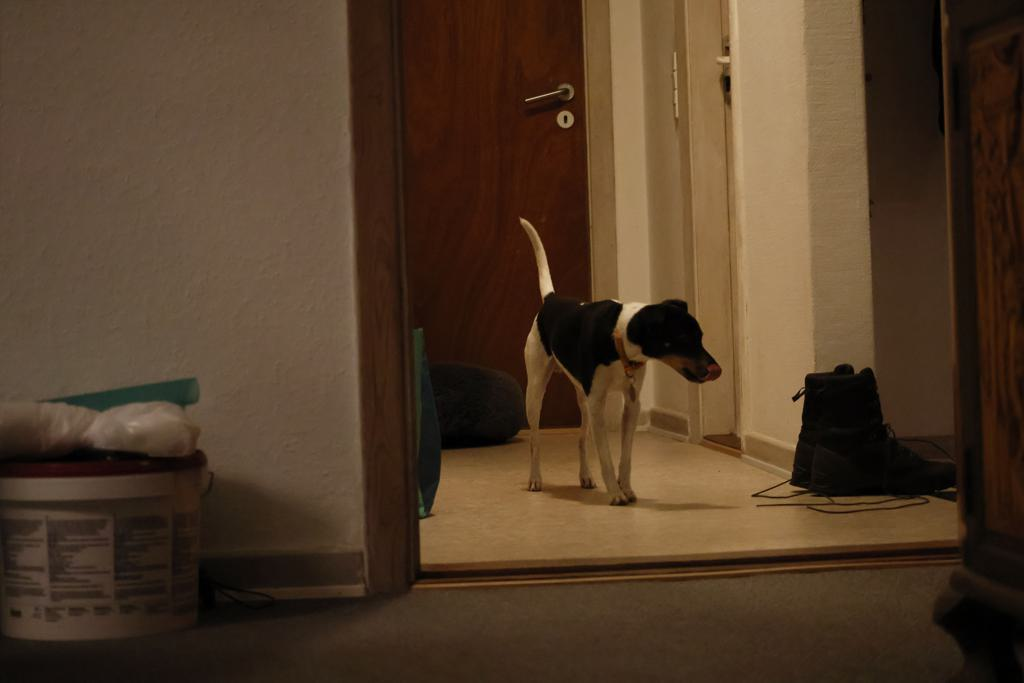Dog: (506, 208, 727, 514)
